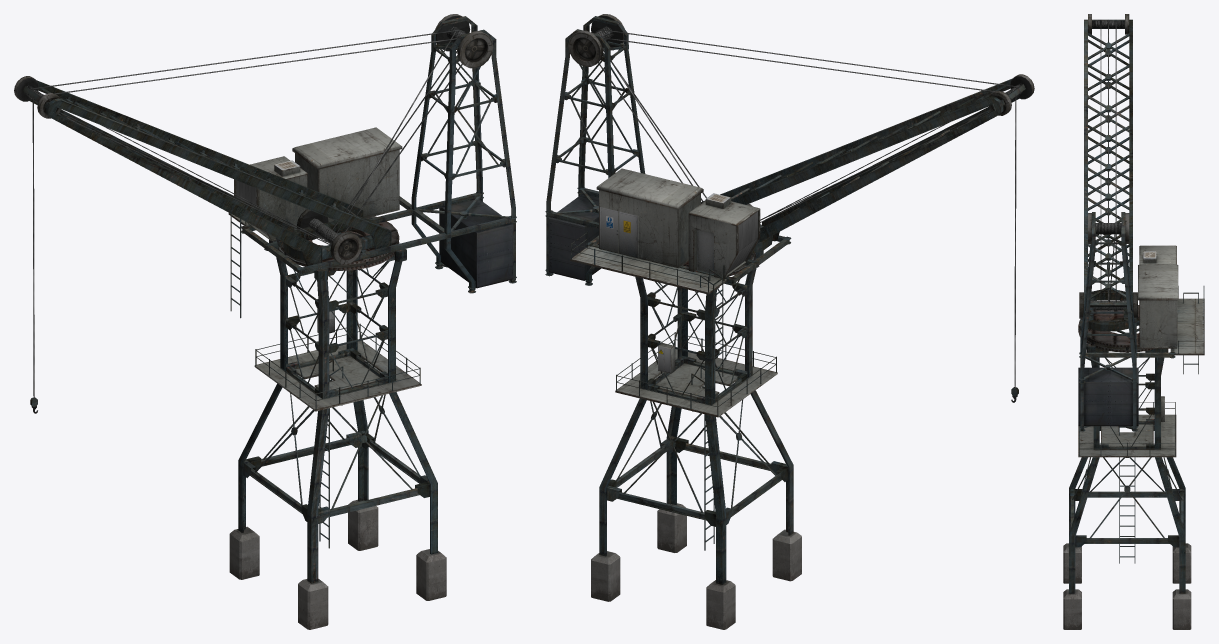
Rendered from MiniCrane.glb.
The picture shows the model from 3 angles, left to right: view 1: azimuth 30°, elevation 25°; view 2: azimuth 150°, elevation 25°; view 3: azimuth 270°, elevation 25°; orthographic projection. The views are drawn at different scales.
Visible parts, largest first — view 1: Box753_1_0, Box753_3_0, Box753_2_0; view 2: Box753_1_0, Box753_2_0, Box753_3_0, Box753_4_0; view 3: Box753_1_0, Box753_3_0, Box753_2_0.
Part boxes in pixels (left/top/right/bottom): Box753_1_0: left=23, top=16, right=516, bottom=583; Box753_3_0: left=14, top=14, right=513, bottom=629; Box753_2_0: left=228, top=127, right=421, bottom=411; Box753_1_0: left=545, top=16, right=1025, bottom=584; Box753_2_0: left=570, top=168, right=777, bottom=417; Box753_3_0: left=548, top=14, right=1034, bottom=629; Box753_4_0: left=727, top=211, right=757, bottom=273; Box753_1_0: left=1069, top=19, right=1204, bottom=593; Box753_3_0: left=1063, top=14, right=1191, bottom=629; Box753_2_0: left=1078, top=245, right=1204, bottom=457.
Size of the model in its own units: 29.04 by 34.24 by 9.41.
4 materials, 4 textured.
